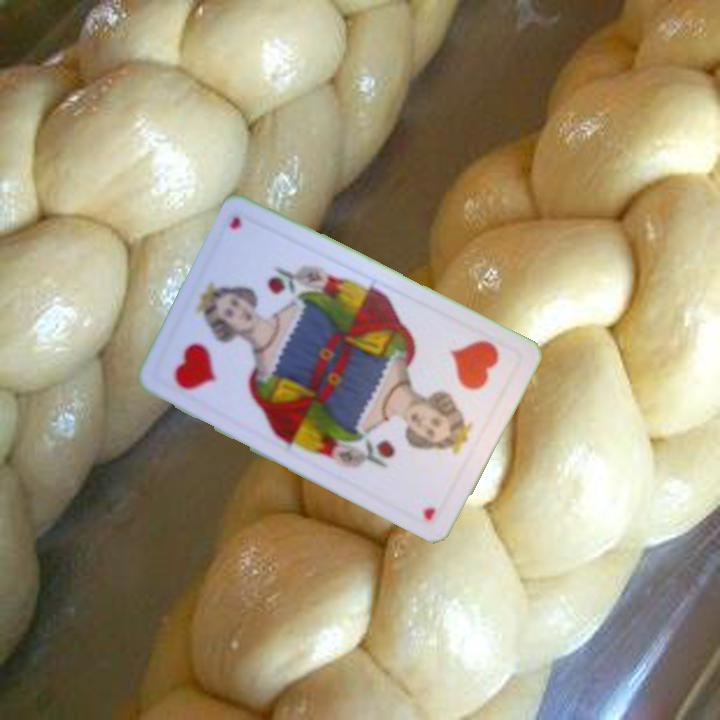h_q.png: (151, 294, 271, 420), (404, 317, 524, 443)
